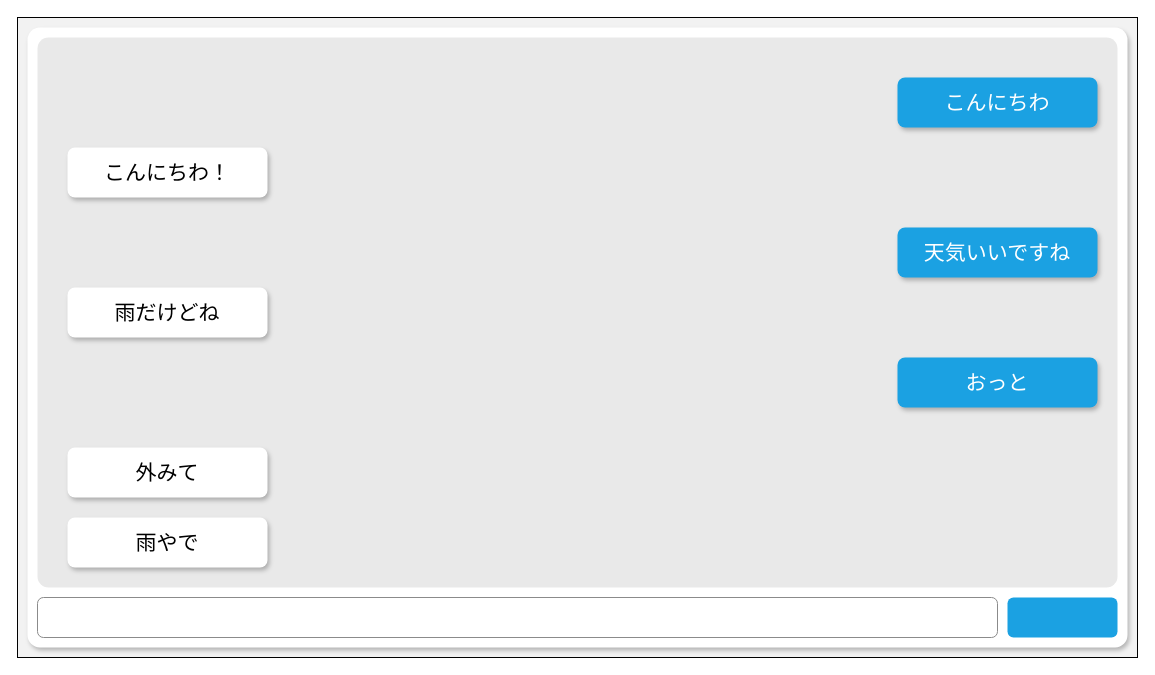
Some shapes in this 1155 by 675 pixel diagram are drawn without their labels. The centre of each missing label's shape, as x and y in pixels:
"メッセージを入力" goes at (x=517, y=617).
"送信" goes at (x=1062, y=617).
